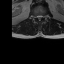CCS_normal: (38, 12, 40, 23)
LFS_normal: (42, 13, 44, 19)
LLS_normal: (40, 13, 42, 20)
RFS_normal: (34, 13, 36, 19)
RLS_normal: (36, 13, 38, 20)
